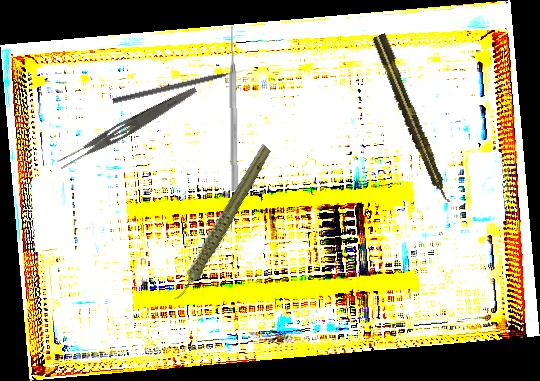Dressing Forceps: (55, 80, 199, 173)
Handpiece: (140, 142, 300, 304), (370, 32, 455, 207)
Hook Surgical: (111, 66, 250, 105)
Pusher: (227, 25, 240, 191)
